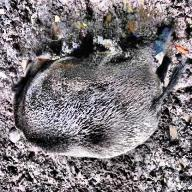boar: (4, 37, 180, 173)
